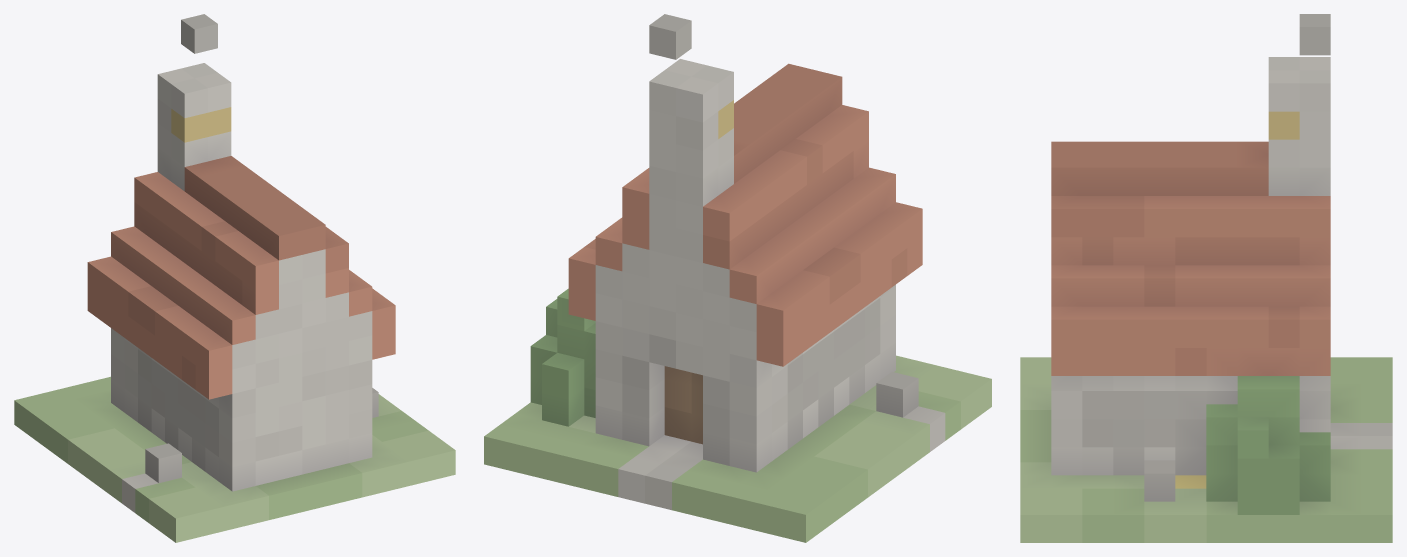
The model's file is chapel.lite.glb.
3 views of the same model, side by side, from view 1: azimuth 30°, elevation 25°; view 2: azimuth 150°, elevation 25°; view 3: azimuth 270°, elevation 25° (orthographic). The views are drawn at different scales.
Parts seen in each view (by area): view 1: chapel; view 2: chapel; view 3: chapel.
Boxes of the visible parts, x1,y1,x2,y2 form: chapel: (14,14,455,542); chapel: (484,14,991,542); chapel: (1020,14,1392,542).
Size of the model in its own units: 3 by 4 by 3.
